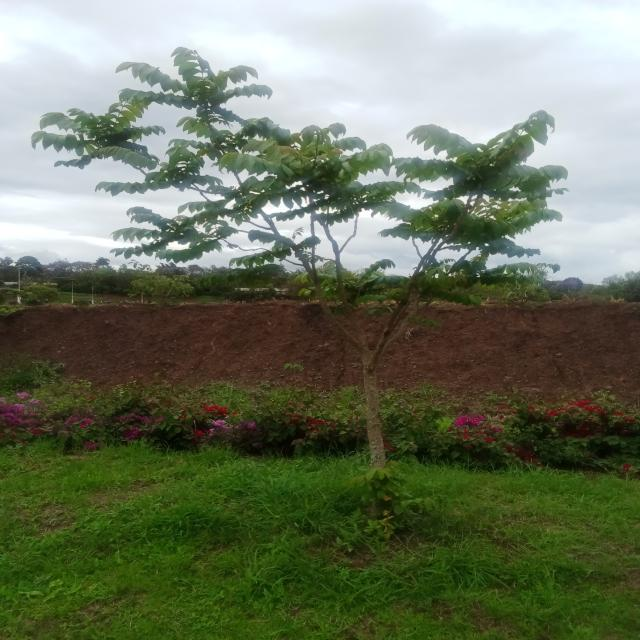Polyscias Kikuyensis: (28, 0, 601, 532)
